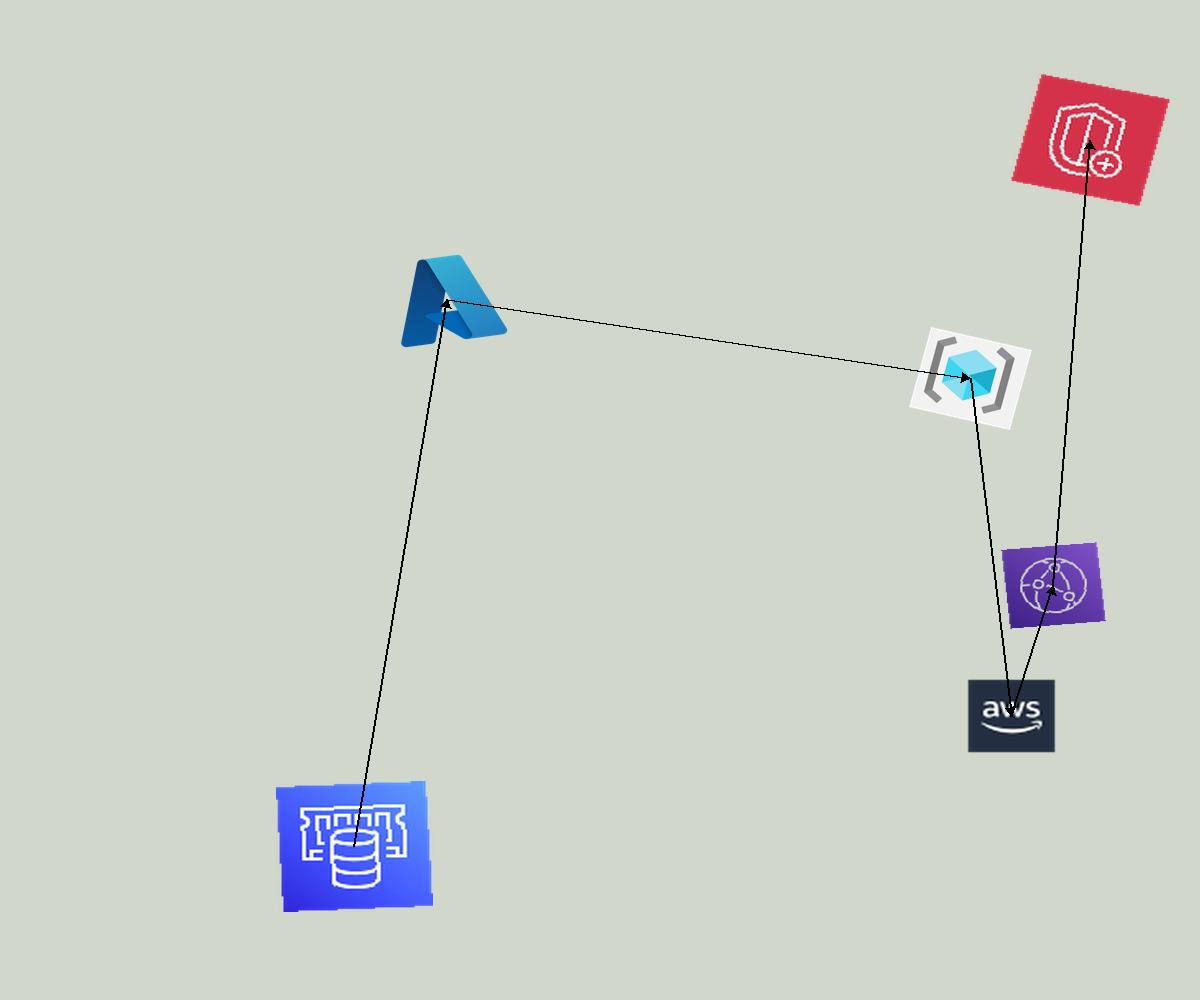AWS-Cloud-logo: (966, 678, 1057, 754)
AWS-CloudFront: (1001, 542, 1106, 629)
AWS-ElastiCache: (276, 781, 433, 912)
AWS-Shield: (1010, 73, 1171, 207)
Azure_resource_group: (909, 327, 1032, 430)
Azure_services: (380, 243, 514, 355)
